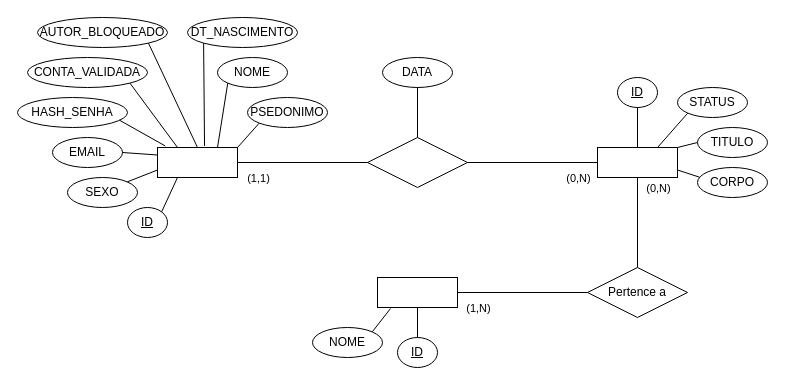
This 785x385 diagram has some shape labels left out. The shapes that lost their labels are listed below. From the top down, each one's centre as x and y in pixels, then its label:
At pixel 197 162: "Autor".
At pixel 417 162: "Escreve".
At pixel 637 162: "Texto".
At pixel 417 292: "Gênero".
